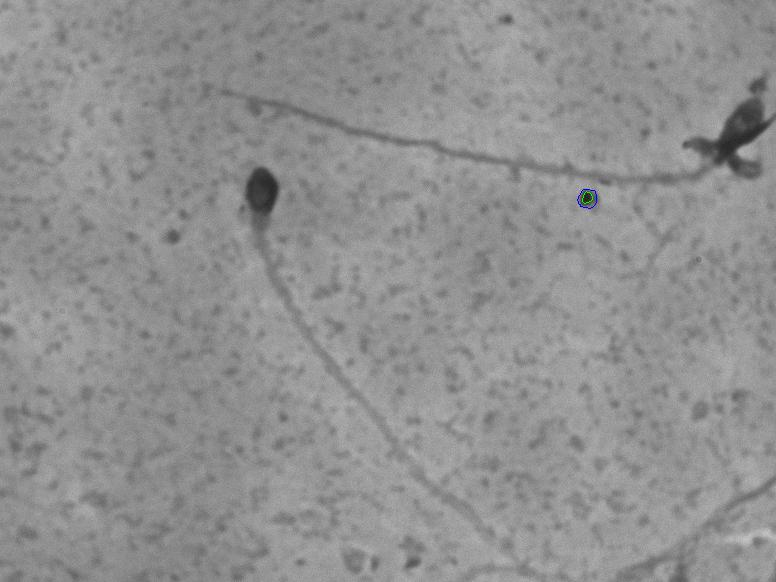Abnormal: (195, 135, 389, 484), (183, 69, 767, 184)
